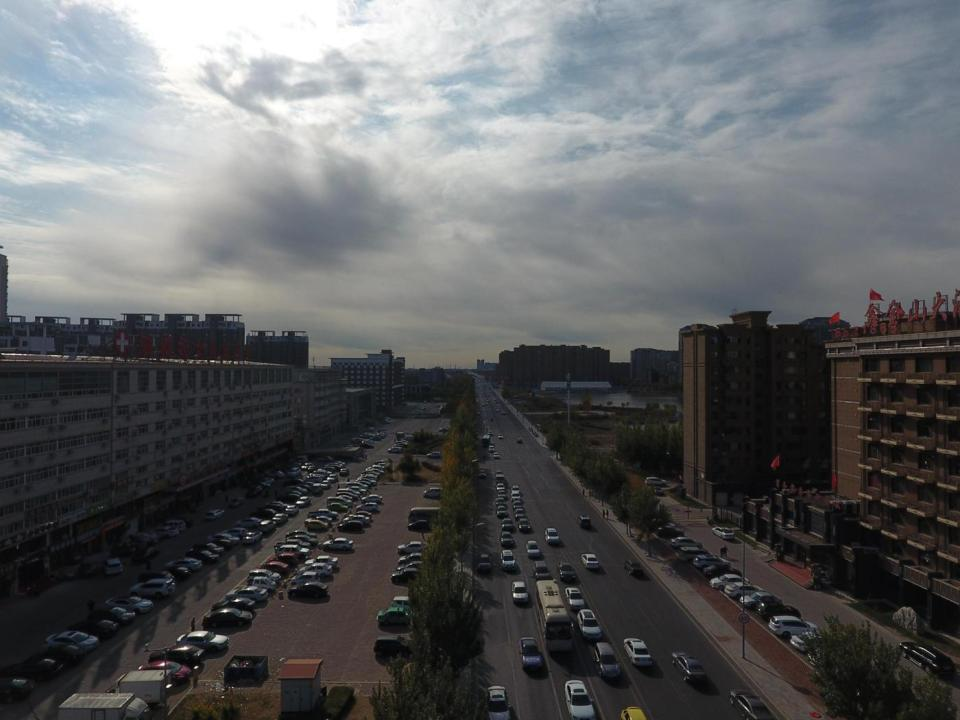bus: (536, 580, 573, 652), (578, 608, 601, 641), (407, 507, 449, 524), (566, 586, 585, 611), (481, 435, 491, 446)
car: (899, 641, 956, 677), (730, 689, 779, 720), (5, 656, 62, 680), (147, 645, 205, 668), (136, 660, 191, 684), (565, 680, 597, 718), (768, 615, 819, 638), (671, 652, 706, 685), (44, 631, 99, 652), (176, 631, 228, 653), (30, 644, 84, 665), (68, 617, 119, 639), (594, 642, 620, 682), (756, 600, 801, 622), (373, 634, 416, 657), (789, 631, 838, 651), (204, 608, 253, 628), (486, 685, 512, 720), (0, 677, 35, 703), (375, 606, 421, 625), (518, 637, 542, 673), (104, 596, 152, 614), (623, 638, 652, 666), (131, 579, 175, 597), (94, 606, 134, 625), (740, 591, 782, 608), (225, 586, 266, 603), (287, 581, 329, 597), (809, 648, 848, 665), (210, 598, 256, 612), (724, 582, 766, 597), (391, 596, 427, 613), (246, 569, 281, 586), (704, 564, 742, 579), (298, 562, 333, 578), (710, 574, 749, 588), (391, 568, 424, 584), (276, 545, 309, 560), (693, 555, 731, 568), (164, 557, 202, 570), (254, 561, 289, 575), (397, 553, 431, 567), (186, 549, 219, 563), (132, 546, 160, 562), (556, 561, 576, 583), (511, 580, 529, 604), (670, 537, 703, 550), (285, 535, 318, 548), (305, 556, 338, 569), (396, 561, 431, 573), (268, 553, 298, 567), (396, 542, 430, 554), (285, 530, 319, 542), (621, 706, 650, 720), (322, 538, 353, 551), (292, 571, 320, 585), (406, 519, 436, 532), (194, 543, 224, 556), (252, 576, 276, 592), (111, 544, 139, 557), (162, 566, 190, 579), (102, 556, 122, 574), (209, 533, 240, 544), (204, 538, 232, 550), (533, 560, 549, 580), (477, 554, 491, 576), (580, 553, 598, 570), (525, 540, 542, 558), (500, 550, 515, 570), (132, 531, 157, 543), (655, 526, 684, 536), (149, 527, 178, 537), (651, 518, 675, 530), (624, 561, 642, 577), (712, 527, 734, 540), (306, 519, 328, 532), (343, 515, 370, 525), (242, 531, 262, 544), (544, 528, 560, 544), (170, 517, 193, 528), (79, 563, 97, 577), (355, 503, 380, 513), (499, 530, 514, 546), (258, 520, 276, 533), (306, 516, 332, 525), (337, 520, 363, 529), (335, 492, 358, 502), (576, 515, 590, 531), (644, 477, 668, 486), (327, 497, 351, 506), (348, 511, 372, 520), (126, 539, 147, 549), (327, 503, 348, 513), (237, 518, 263, 526), (221, 528, 247, 536), (337, 489, 360, 498), (245, 487, 263, 498), (259, 504, 281, 513), (518, 517, 530, 533), (205, 510, 224, 520), (228, 497, 244, 508), (252, 510, 274, 518), (272, 513, 288, 524), (360, 494, 382, 502), (501, 517, 512, 532), (334, 495, 352, 504), (346, 487, 366, 495), (296, 496, 310, 507), (346, 483, 368, 490), (354, 478, 376, 485), (285, 479, 306, 486), (361, 472, 379, 480), (362, 470, 380, 478), (496, 505, 507, 518), (515, 508, 526, 521), (366, 465, 386, 472), (374, 461, 391, 469), (289, 454, 308, 461), (265, 471, 284, 478), (359, 474, 378, 481), (650, 486, 663, 496), (426, 451, 443, 458), (373, 464, 390, 471), (324, 463, 343, 469), (320, 466, 339, 472), (293, 484, 312, 490), (283, 494, 302, 500), (358, 476, 377, 482), (365, 468, 384, 474), (285, 506, 299, 514), (496, 497, 506, 508), (674, 474, 686, 483), (309, 472, 327, 478), (289, 467, 301, 476), (259, 478, 274, 485), (317, 456, 334, 462), (249, 483, 269, 488), (328, 461, 344, 467), (326, 474, 338, 482), (302, 462, 314, 470), (355, 482, 371, 488), (313, 470, 332, 475), (287, 487, 306, 492), (285, 492, 304, 497), (512, 500, 522, 509), (511, 492, 520, 502), (511, 485, 520, 495), (313, 472, 331, 477), (304, 477, 322, 482), (320, 480, 331, 488), (360, 442, 374, 448), (288, 462, 302, 468), (497, 490, 506, 499), (339, 468, 349, 476), (388, 447, 401, 453), (380, 460, 393, 466), (391, 445, 406, 450), (496, 483, 504, 492), (394, 443, 408, 448), (307, 466, 318, 472), (402, 436, 415, 441), (351, 438, 364, 443), (341, 445, 354, 450), (272, 467, 285, 472), (478, 470, 486, 478), (494, 470, 502, 478), (395, 441, 407, 446), (362, 428, 374, 432), (373, 434, 385, 438), (360, 434, 372, 438), (362, 440, 374, 444), (378, 431, 387, 436), (438, 428, 449, 432), (439, 426, 450, 430), (380, 420, 391, 424), (370, 436, 381, 440), (363, 432, 374, 436), (344, 444, 355, 448), (493, 452, 500, 458), (488, 446, 494, 452), (380, 418, 389, 422), (381, 416, 390, 420), (364, 442, 373, 446), (366, 426, 374, 430), (497, 434, 503, 439), (516, 438, 522, 443), (399, 438, 405, 442), (489, 431, 493, 436), (477, 411, 481, 415), (421, 407, 426, 410), (495, 409, 499, 412), (482, 403, 485, 406), (502, 412, 505, 415), (436, 405, 440, 407), (486, 400, 490, 402), (481, 391, 484, 393), (485, 391, 488, 393), (424, 401, 426, 403), (431, 401, 433, 403), (488, 394, 490, 396), (486, 402, 488, 404), (494, 398, 496, 400), (496, 401, 498, 403), (477, 400, 478, 402)
truck: (58, 692, 152, 720), (104, 670, 171, 707), (274, 539, 310, 554), (308, 509, 339, 519), (495, 474, 505, 485), (396, 432, 404, 440)
van: (139, 570, 175, 588), (680, 546, 717, 563), (155, 520, 185, 532), (422, 487, 445, 498), (312, 483, 323, 494), (378, 428, 387, 434)
